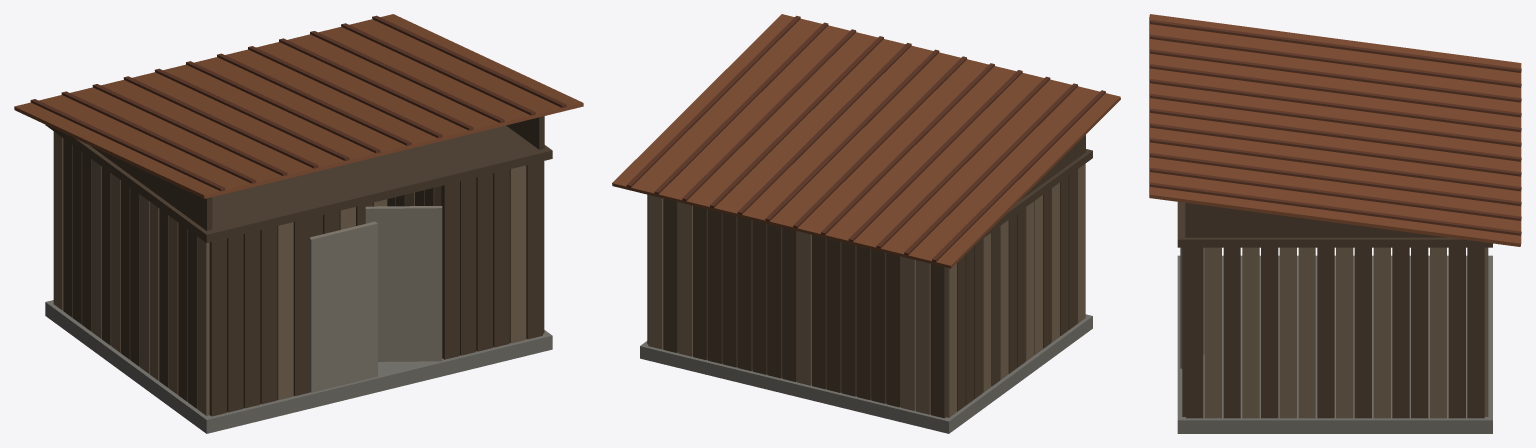
Rendered from сарай.glb.
3 renders of one model, left to right at view 1: azimuth 30°, elevation 25°; view 2: azimuth 150°, elevation 25°; view 3: azimuth 270°, elevation 25°, orthographic. The views are drawn at different scales.
Visible parts, largest first — view 1: сарай; view 2: сарай; view 3: сарай.
Boxes of the visible parts, bbox=[...] form: сарай: bbox=[14, 14, 583, 433]; сарай: bbox=[612, 14, 1120, 433]; сарай: bbox=[1149, 14, 1521, 433].
Bounding box in the file's own units: 5.7 × 3.67 × 4.96.
